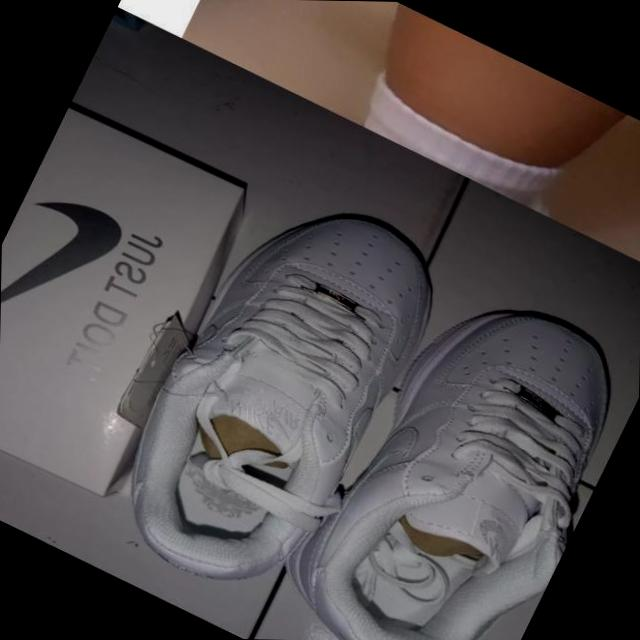nike_fake_airforce: (88, 161, 476, 634), (260, 249, 640, 640)
